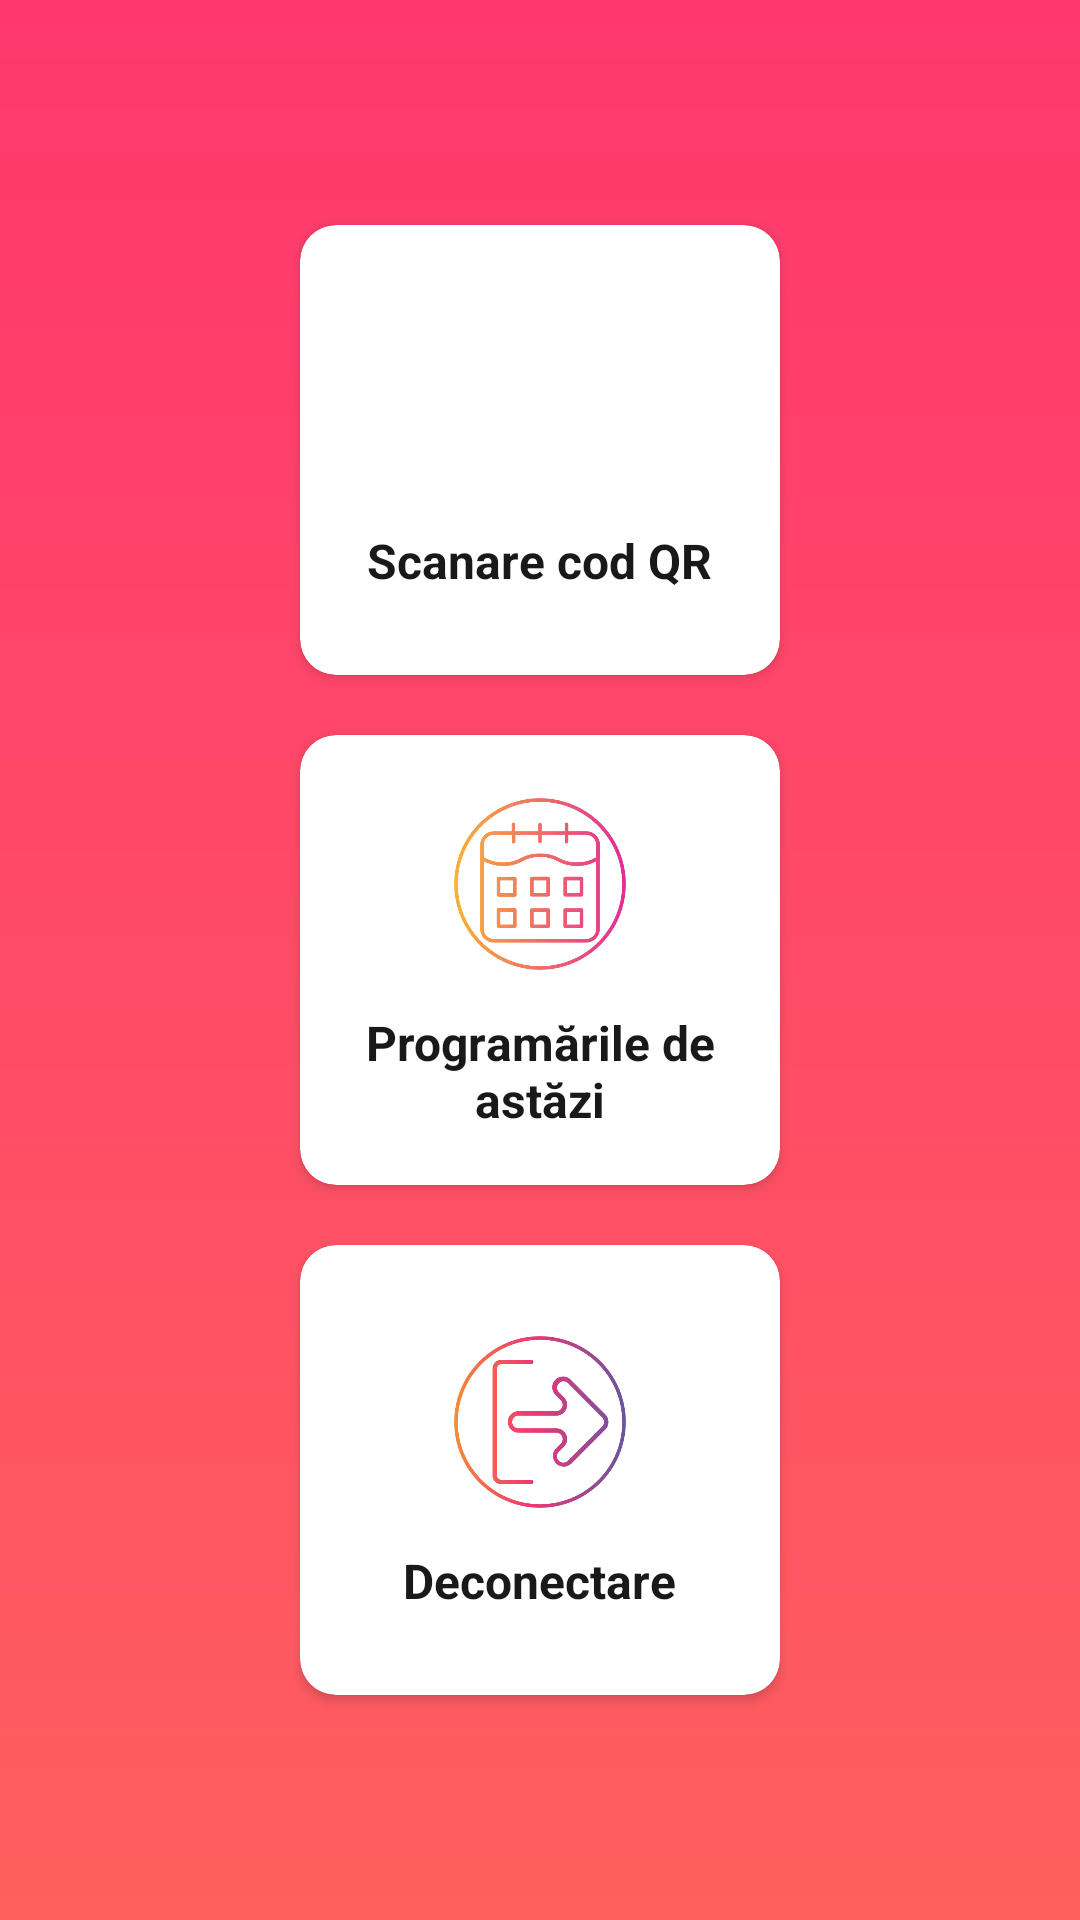

Screen size 1080 x 1920. Icon name, then its box in pixels as Rect(x1, y1, x2, y2):
calendar: Rect(454, 798, 626, 970)
